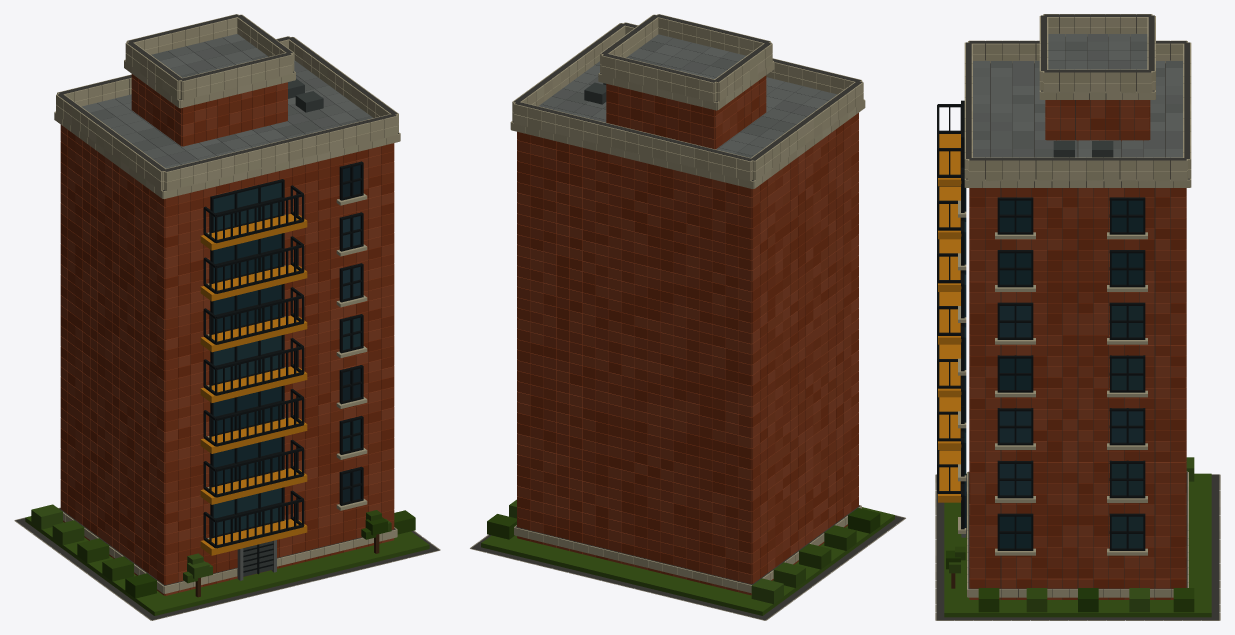
Rendered from SM_Mapa_055.fbx.
The picture shows the model from 3 angles, left to right: view 1: azimuth 30°, elevation 25°; view 2: azimuth 150°, elevation 25°; view 3: azimuth 270°, elevation 25°; orthographic projection. The views are drawn at different scales.
Visible parts, largest first — view 1: SM_Mapa_055; view 2: SM_Mapa_055; view 3: SM_Mapa_055.
Part boxes in pixels (left/top/right/bottom): SM_Mapa_055: left=14, top=14, right=440, bottom=620; SM_Mapa_055: left=470, top=14, right=905, bottom=620; SM_Mapa_055: left=935, top=14, right=1220, bottom=620.
Bounding box in the file's own units: 14 × 11.52 × 22.25.
